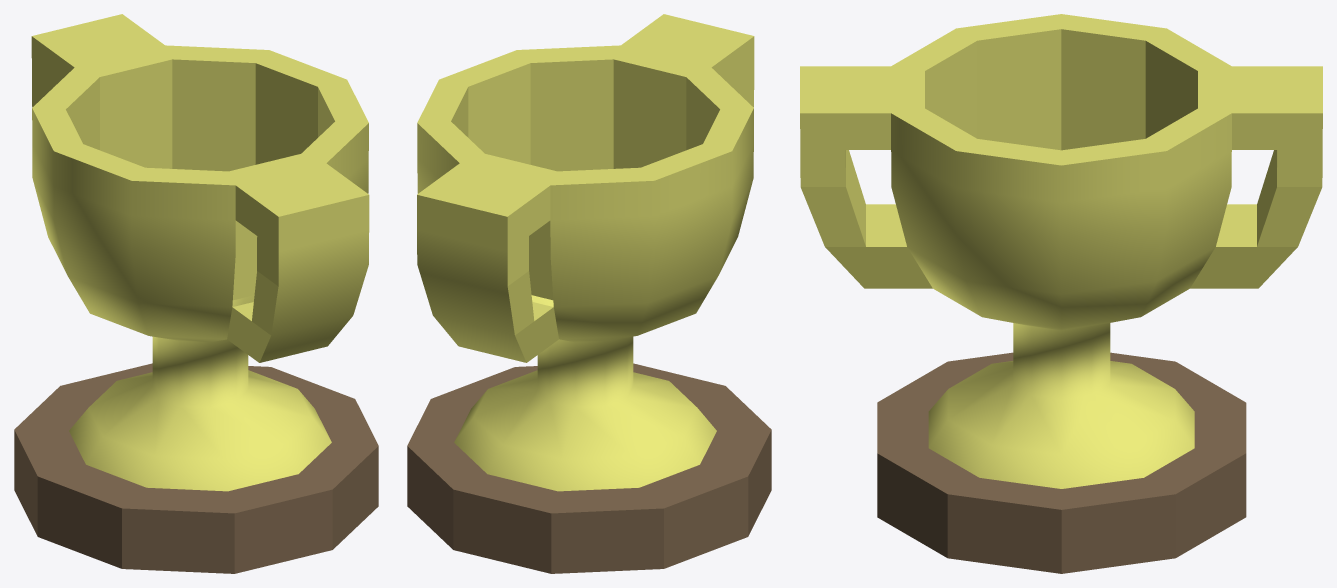
Rendered from trophy.fbx.
The picture shows the model from 3 angles, left to right: view 1: azimuth 30°, elevation 25°; view 2: azimuth 150°, elevation 25°; view 3: azimuth 270°, elevation 25°; orthographic projection. The views are drawn at different scales.
Visible parts, largest first — view 1: pCylinder3, pCylinder1; view 2: pCylinder3, pCylinder1; view 3: pCylinder3, pCylinder1.
Part boxes in pixels (bbox=[...]): pCylinder3: bbox=[31, 14, 369, 491]; pCylinder1: bbox=[14, 363, 378, 573]; pCylinder3: bbox=[417, 14, 754, 491]; pCylinder1: bbox=[407, 363, 771, 573]; pCylinder3: bbox=[800, 14, 1322, 488]; pCylinder1: bbox=[877, 352, 1246, 573].
Size of the model in its own units: 2 by 2.3 by 2.7.
